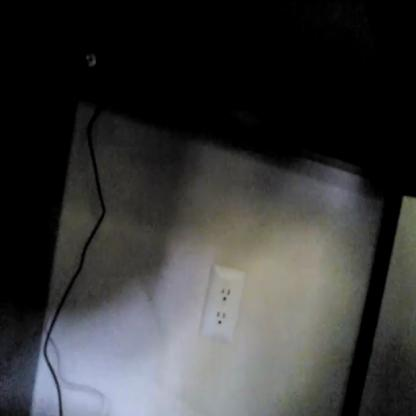OUTLET: (204, 264, 242, 340)
